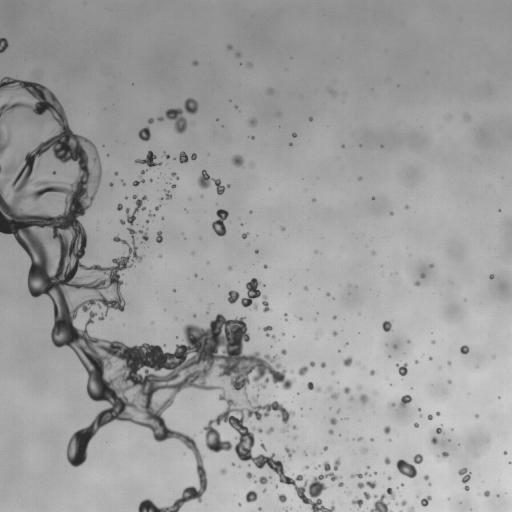droplet: (165, 98, 197, 133), (396, 454, 423, 478), (241, 278, 261, 309), (370, 488, 395, 511), (135, 151, 161, 167), (138, 127, 150, 141), (227, 290, 239, 303), (231, 155, 243, 167), (263, 326, 275, 338), (400, 395, 412, 407), (245, 490, 257, 502), (178, 151, 188, 163), (351, 498, 363, 508), (0, 38, 8, 52), (398, 363, 407, 375), (421, 496, 431, 506), (382, 321, 391, 331), (343, 356, 352, 366), (298, 366, 308, 375), (285, 447, 294, 457), (460, 345, 469, 354), (359, 394, 368, 403), (155, 231, 162, 242), (278, 493, 286, 502), (383, 426, 390, 434), (246, 472, 254, 479), (363, 492, 371, 499), (165, 190, 171, 199), (330, 418, 337, 425), (266, 427, 273, 434), (431, 436, 437, 444), (249, 119, 256, 125), (344, 387, 350, 394), (331, 393, 338, 399), (435, 427, 442, 433), (441, 451, 448, 457), (384, 457, 390, 464), (242, 232, 248, 238), (220, 468, 226, 474), (117, 203, 122, 210), (260, 443, 265, 450), (407, 506, 414, 511), (191, 153, 196, 159), (140, 170, 145, 176), (484, 491, 489, 497), (400, 500, 406, 505), (268, 88, 273, 93), (148, 118, 153, 123), (164, 153, 169, 158), (155, 205, 160, 210), (281, 349, 286, 354), (370, 370, 375, 375), (328, 429, 333, 434), (424, 475, 429, 480), (192, 61, 197, 65), (464, 115, 469, 119), (158, 117, 163, 121), (149, 212, 154, 216), (420, 274, 425, 278), (489, 274, 493, 279), (414, 281, 419, 285), (332, 331, 337, 335), (310, 361, 314, 366), (321, 362, 325, 367), (349, 396, 353, 401), (427, 415, 432, 419), (357, 437, 362, 441), (338, 482, 343, 486), (227, 45, 231, 49), (236, 52, 240, 56), (292, 133, 296, 137), (109, 182, 113, 186), (171, 184, 175, 188), (391, 402, 395, 406), (414, 423, 418, 427), (323, 446, 327, 450), (255, 249, 258, 253), (429, 264, 433, 267), (333, 315, 336, 319), (292, 426, 296, 429), (363, 448, 366, 452), (304, 466, 308, 469), (14, 167, 17, 170), (390, 212, 393, 215), (281, 227, 284, 230), (228, 267, 231, 270), (448, 361, 451, 364), (337, 409, 340, 412), (436, 412, 439, 415), (475, 414, 478, 417), (388, 476, 391, 479), (263, 489, 266, 492), (358, 385, 360, 389), (309, 118, 312, 120), (289, 143, 292, 145), (115, 172, 117, 175), (122, 181, 124, 184), (405, 206, 408, 208), (146, 220, 148, 223), (264, 265, 267, 267), (194, 274, 197, 276), (304, 287, 307, 289), (327, 292, 329, 295), (432, 340, 434, 343), (393, 345, 396, 347), (429, 357, 431, 360), (415, 360, 417, 363), (358, 362, 360, 365), (418, 408, 420, 411), (370, 438, 373, 440), (504, 451, 506, 454), (367, 465, 369, 468), (401, 483, 403, 486), (428, 483, 431, 485), (238, 503, 241, 505), (53, 171, 55, 173), (359, 177, 361, 179), (150, 179, 152, 181), (313, 199, 315, 201), (35, 209, 37, 211), (161, 217, 163, 219), (159, 255, 161, 257), (345, 343, 347, 345), (328, 388, 330, 390), (284, 429, 286, 431), (294, 437, 296, 439), (232, 463, 234, 465), (259, 508, 261, 510)
ligament: (0, 77, 339, 511), (120, 195, 147, 224), (198, 170, 226, 194), (212, 209, 228, 236), (458, 468, 470, 490), (0, 138, 9, 153), (357, 481, 376, 488), (307, 382, 320, 392), (254, 476, 269, 484), (262, 295, 269, 312), (350, 472, 369, 478), (139, 230, 148, 241), (133, 178, 144, 186), (171, 172, 179, 179), (0, 166, 1, 171)
